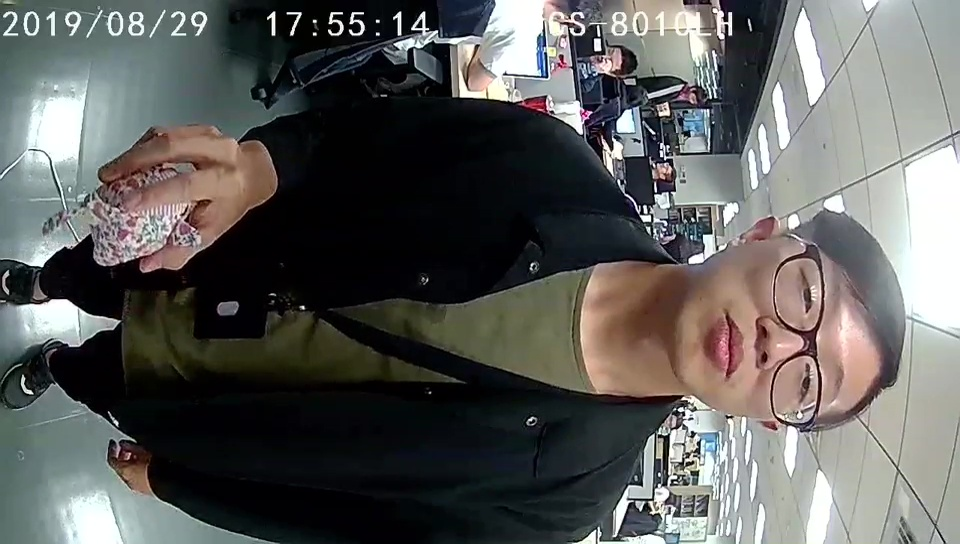pig: (90, 165, 203, 267)
